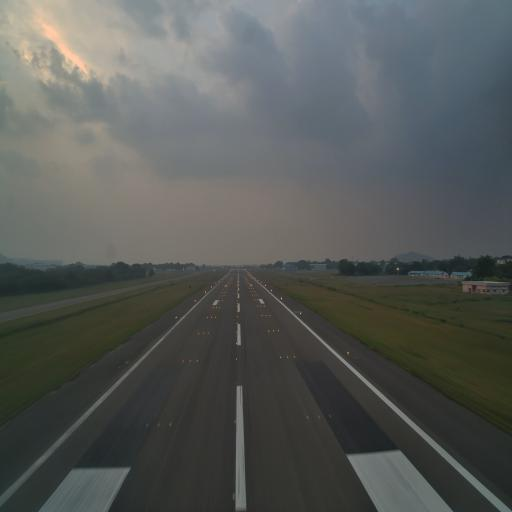off: (124, 358, 130, 367), (234, 379, 238, 386)
on: (232, 491, 235, 503), (156, 420, 160, 428), (317, 412, 321, 420), (328, 412, 332, 420), (234, 356, 239, 362), (145, 422, 149, 429), (346, 349, 350, 356), (169, 420, 172, 428), (233, 418, 237, 424), (306, 414, 310, 420), (235, 341, 239, 347), (286, 354, 289, 360), (182, 358, 184, 364), (293, 355, 296, 359), (189, 360, 191, 364), (196, 359, 198, 363), (280, 355, 282, 359)
